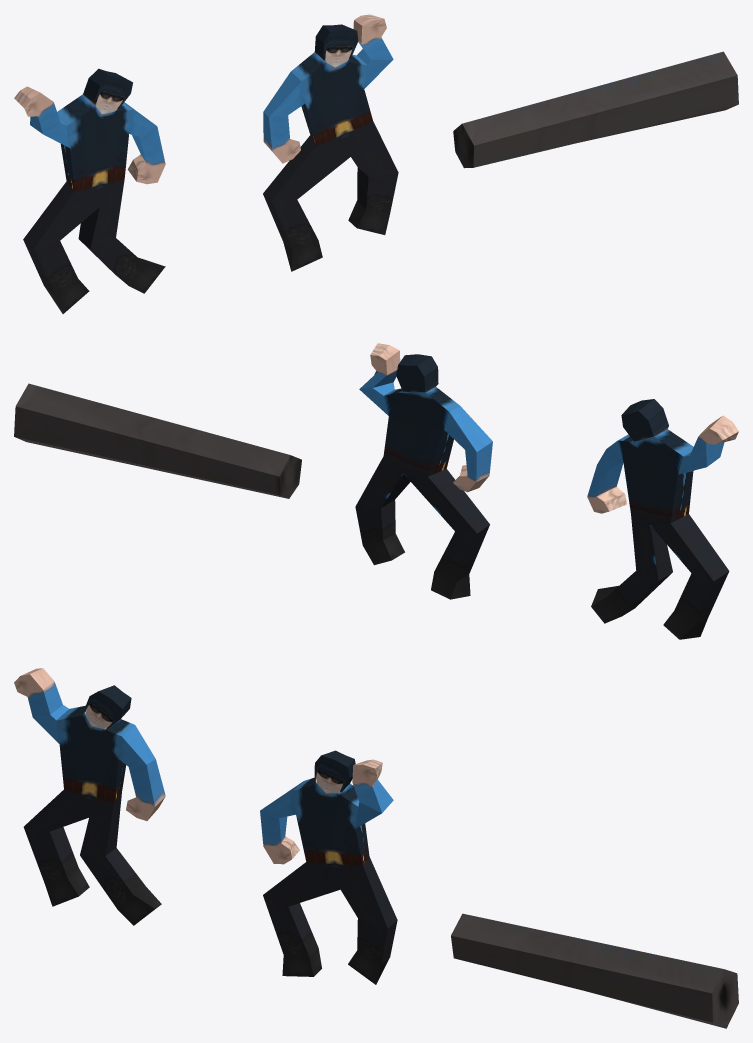
Rendered from GarbageCopGrenade_3items.fbx.
The picture shows the model from 3 angles, top to bottom: view 1: azimuth 30°, elevation 25°; view 2: azimuth 150°, elevation 25°; view 3: azimuth 330°, elevation 25°; orthographic projection.
Parts seen in each view (by area): view 1: COP_WITH_GRANADE2, COP_WITH_GRANADE1, GRANADE_LAUNCHER1; view 2: COP_WITH_GRANADE2, COP_WITH_GRANADE1, GRANADE_LAUNCHER1; view 3: COP_WITH_GRANADE1, COP_WITH_GRANADE2, GRANADE_LAUNCHER1.
Boxes of the visible parts, x1,y1,x2,y2 form: COP_WITH_GRANADE2: (263,14,398,271); COP_WITH_GRANADE1: (14,68,165,313); GRANADE_LAUNCHER1: (453,51,738,168); COP_WITH_GRANADE2: (355,343,492,599); COP_WITH_GRANADE1: (587,399,738,639); GRANADE_LAUNCHER1: (14,383,301,498); COP_WITH_GRANADE1: (14,668,165,925); COP_WITH_GRANADE2: (260,750,397,984); GRANADE_LAUNCHER1: (451,913,738,1028).
Size of what is drawn, in the model's own units: 46.26 by 15.1 by 3.04.
